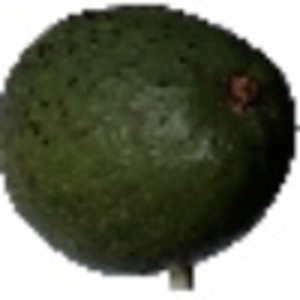abacate: (2, 3, 299, 277)
